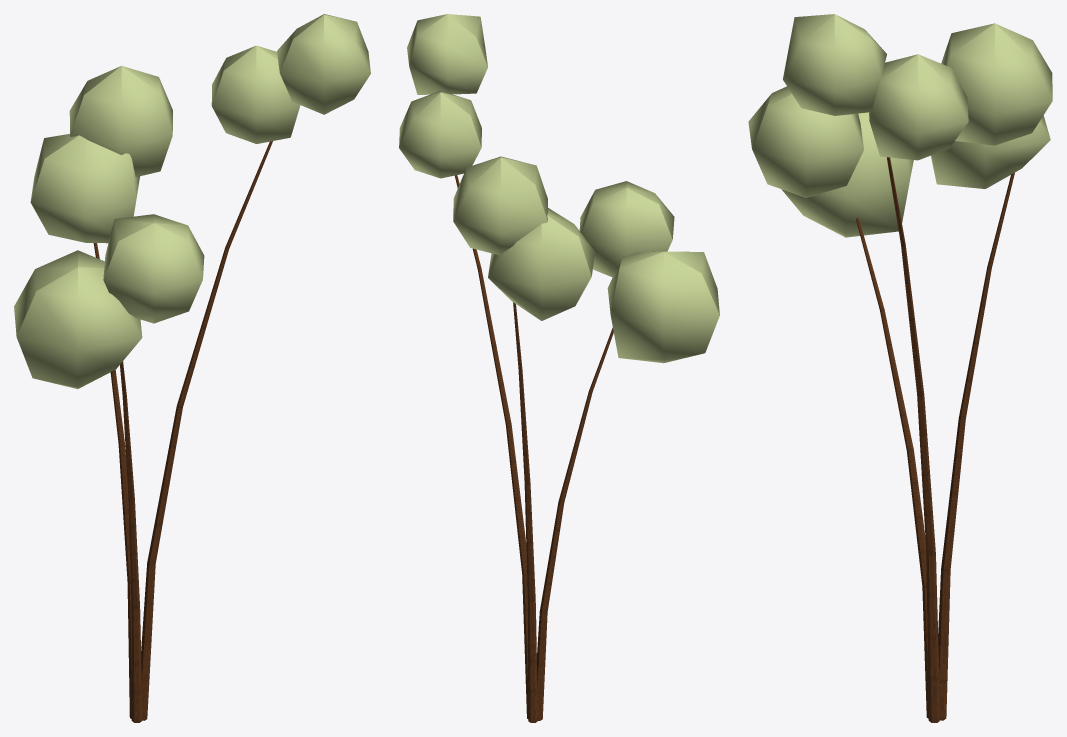
The model's file is dense-temperate-forest-flora-hazel-young-3e07ca34__28329.glb.
The picture shows the model from 3 angles, left to right: view 1: azimuth 30°, elevation 25°; view 2: azimuth 150°, elevation 25°; view 3: azimuth 270°, elevation 25°; orthographic projection. The views are drawn at different scales.
Parts seen in each view (by area): view 1: hazel-young; view 2: hazel-young; view 3: hazel-young.
Part boxes in pixels (x1,y1,x2,y2): hazel-young: [14, 14, 370, 722]; hazel-young: [399, 14, 719, 722]; hazel-young: [748, 14, 1052, 722].
Bounding box in the file's own units: 1.63 × 3.16 × 1.12.
2 materials, 1 textured.
